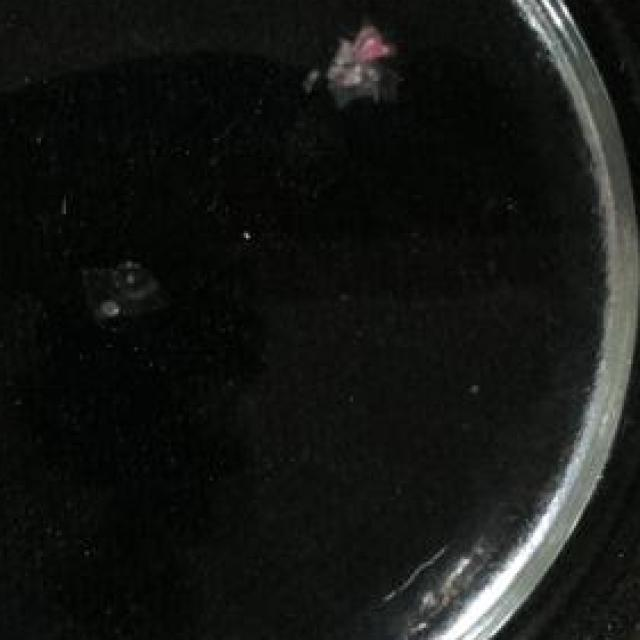Microplastic: (314, 7, 392, 110)
